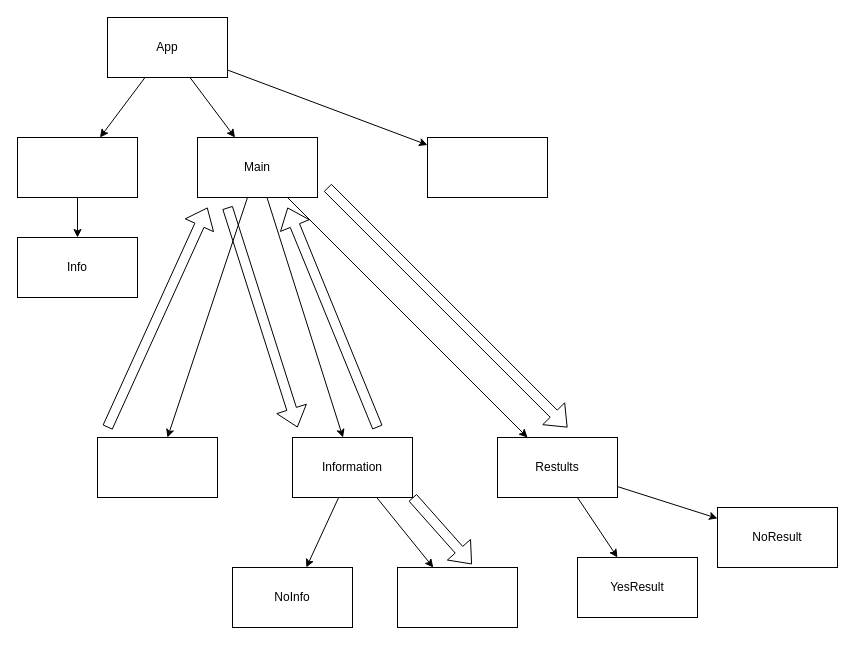
This 855x645 diagram has some shape labels left out. Here are the shapes that lost their labels. From the top down, the centre of each, then its label:
At point 77,167: "Header".
At point 487,167: "Footer".
At point 157,467: "Add".
At point 457,597: "YesInfo".
